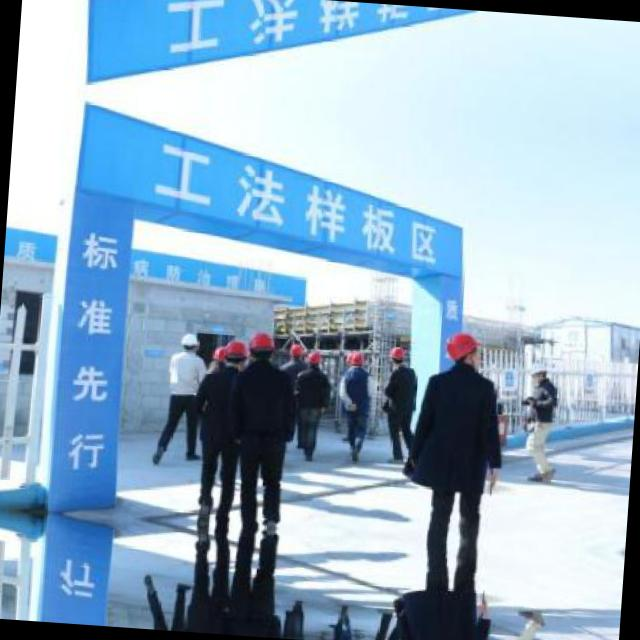helmet: (443, 329, 482, 368), (246, 327, 274, 360), (222, 338, 248, 364), (176, 331, 198, 354), (528, 358, 546, 382), (210, 341, 228, 362), (348, 346, 368, 364), (389, 343, 406, 363), (286, 341, 304, 358), (304, 349, 319, 364)
